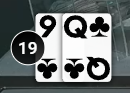9: (34, 12, 62, 40)
q: (61, 10, 90, 42)
